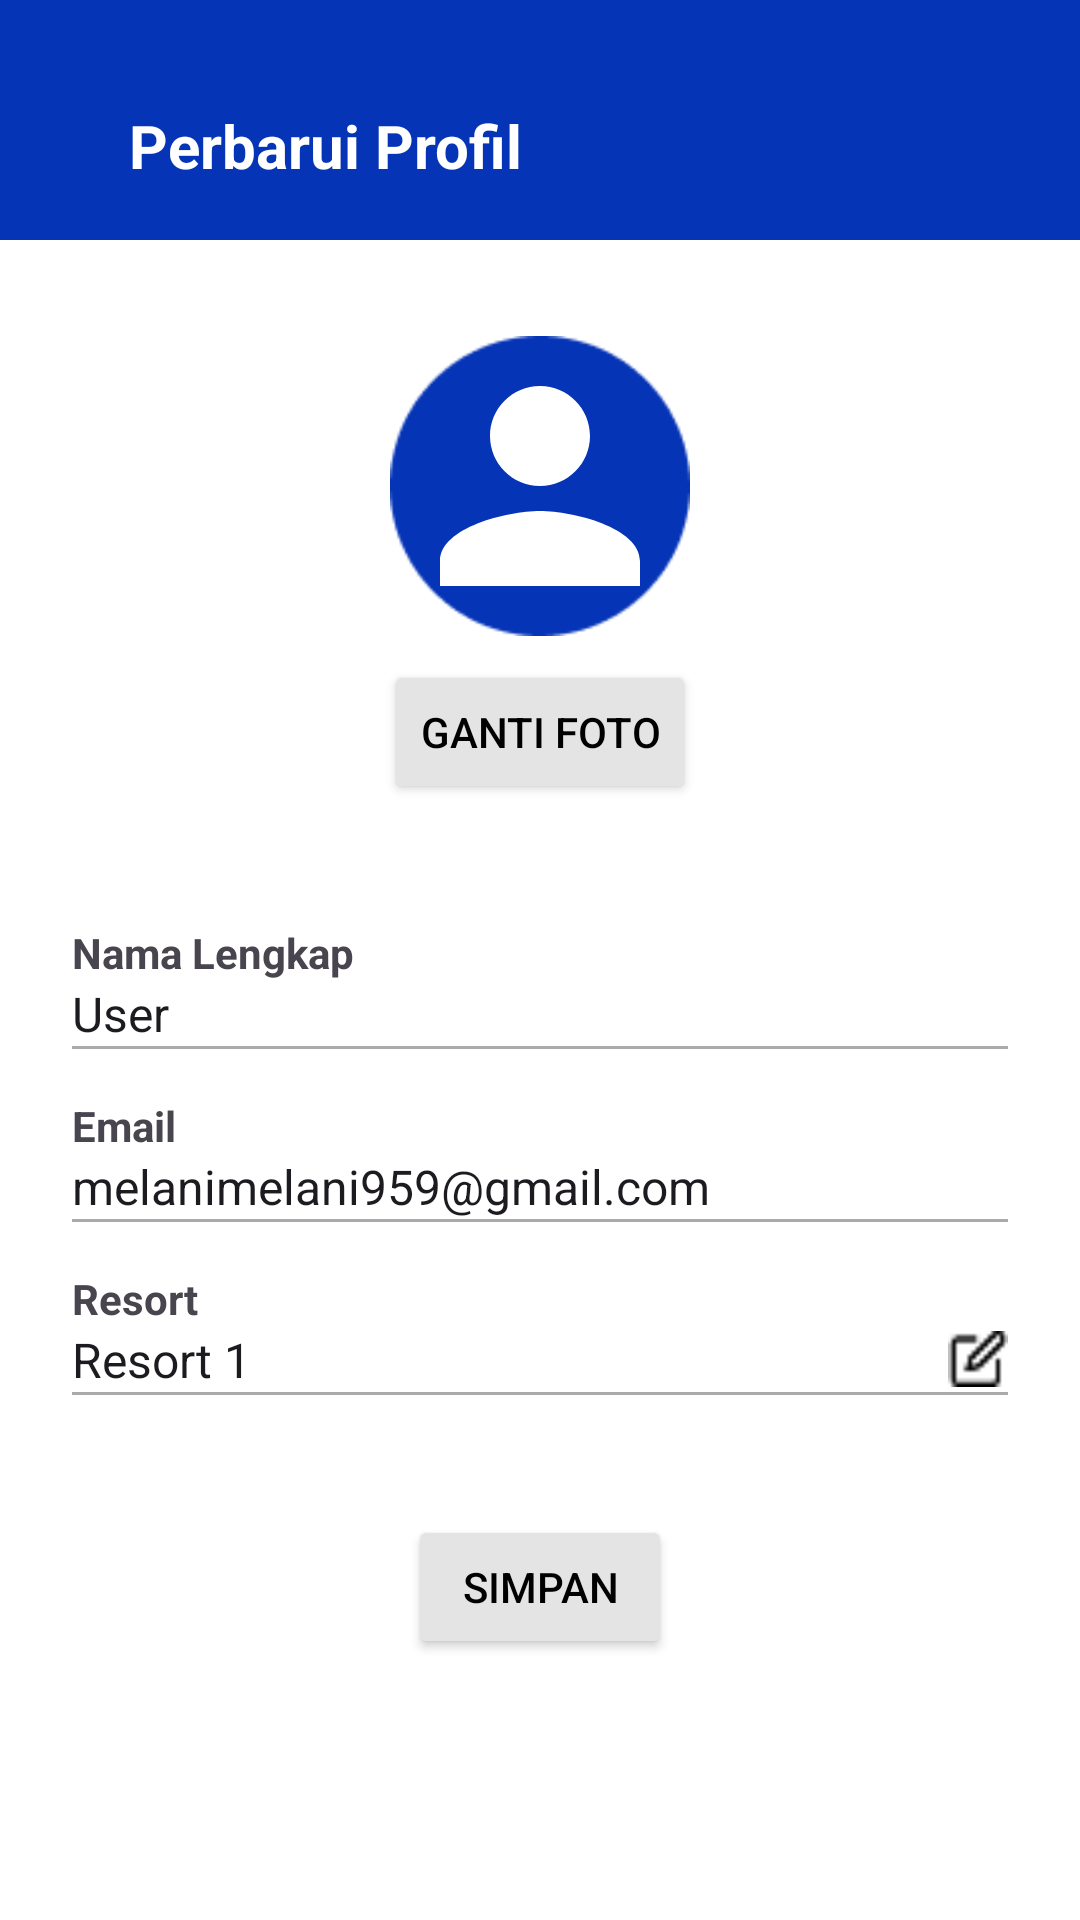

Icon bounding boxes for this 1080 × 1920 phone screenshot, format [x1, y1, x2, y2]:
Edit Resort: [948, 1331, 1008, 1387]
Profile Picture: [390, 336, 690, 636]
